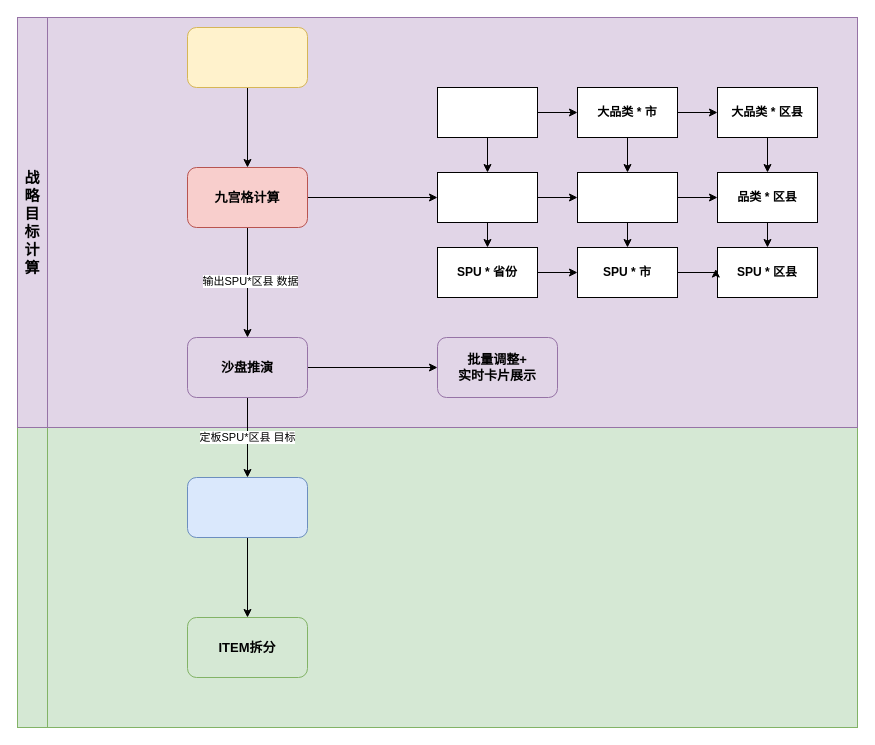
The diagram is 875 pixels wide and 745 high, and some of its shapes have lost their labels. Each missing label, with the box of its shape:
品类 * 市: (576, 172, 678, 222)
品类 * 省份: (436, 172, 538, 222)
大品类 * 省份: (436, 86, 538, 138)
市场容量计算: (186, 26, 308, 88)
投资测算: (186, 476, 308, 538)
投资费用计算: (16, 426, 48, 728)
